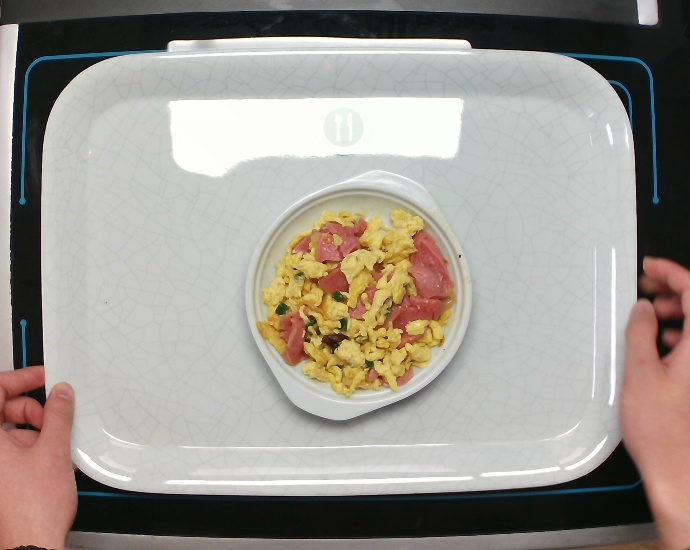JYsf-Shuang_Er_Pan: (245, 167, 471, 421)
